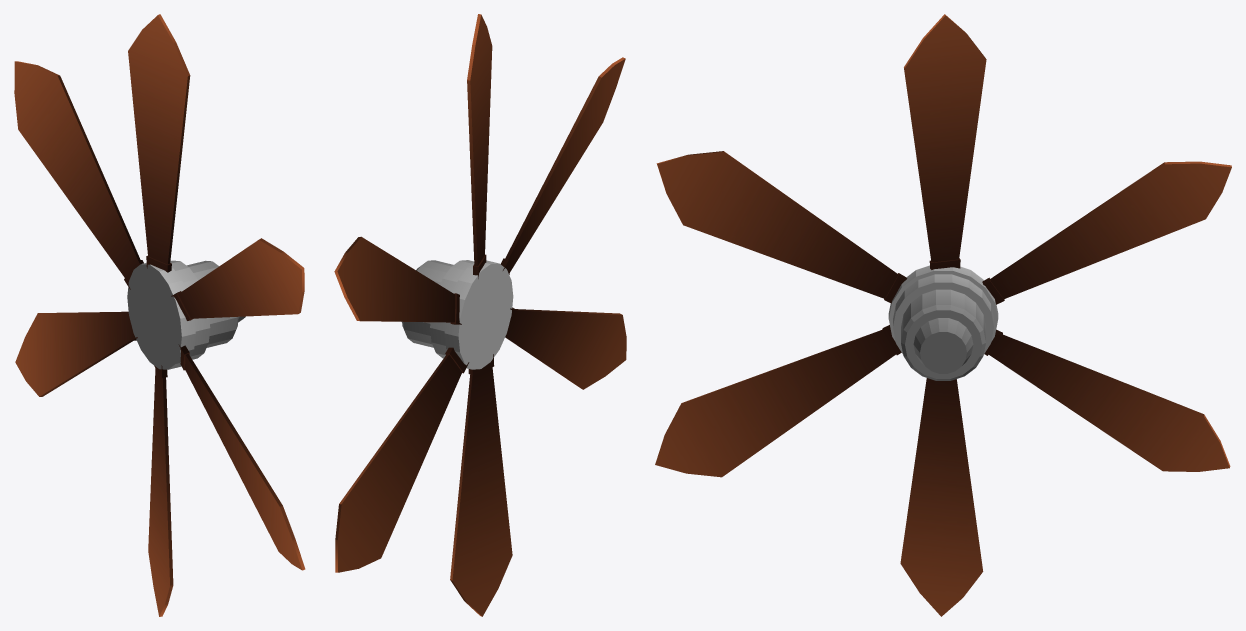
The model's file is CeilingFan.FBX.
3 views of the same model, side by side, from view 1: azimuth 30°, elevation 25°; view 2: azimuth 150°, elevation 25°; view 3: azimuth 270°, elevation 25° (orthographic).
Parts seen in each view (by area): view 1: Ceiling Fan; view 2: Ceiling Fan; view 3: Ceiling Fan.
Part boxes in pixels (bbox=[...]): Ceiling Fan: bbox=[14, 14, 305, 616]; Ceiling Fan: bbox=[334, 14, 626, 616]; Ceiling Fan: bbox=[655, 14, 1231, 616].
Size of the model in its own units: 9.4 by 61.71 by 53.64.
1 material, 1 textured.
